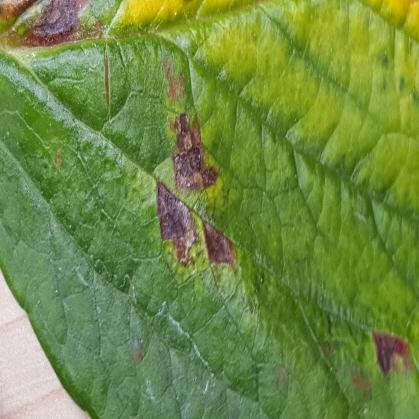Angular Leafspot: (0, 0, 418, 396)
